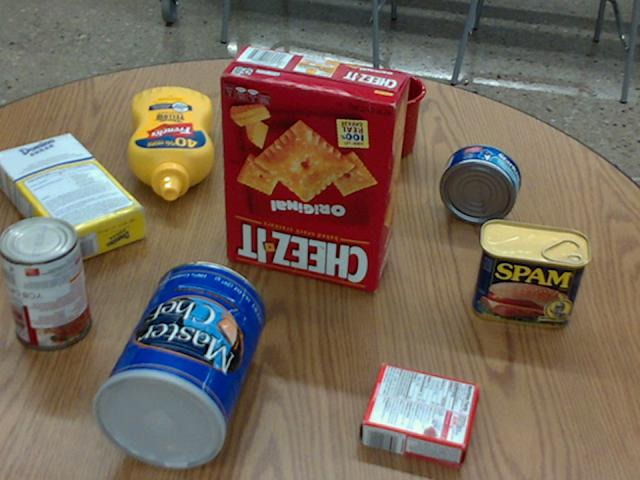cracker_box: (220, 46, 409, 289)
gelatin_box: (360, 363, 478, 466)
large_marker: (257, 100, 308, 154)
master_chef_can: (94, 261, 266, 469)
mug: (340, 69, 424, 159)
mustard_bottle: (127, 87, 213, 199)
potted_meat_can: (471, 220, 590, 327)
sugar_box: (0, 129, 145, 266)
tomato_soup_can: (0, 215, 91, 349)
tuna_fish_can: (438, 144, 520, 223)
